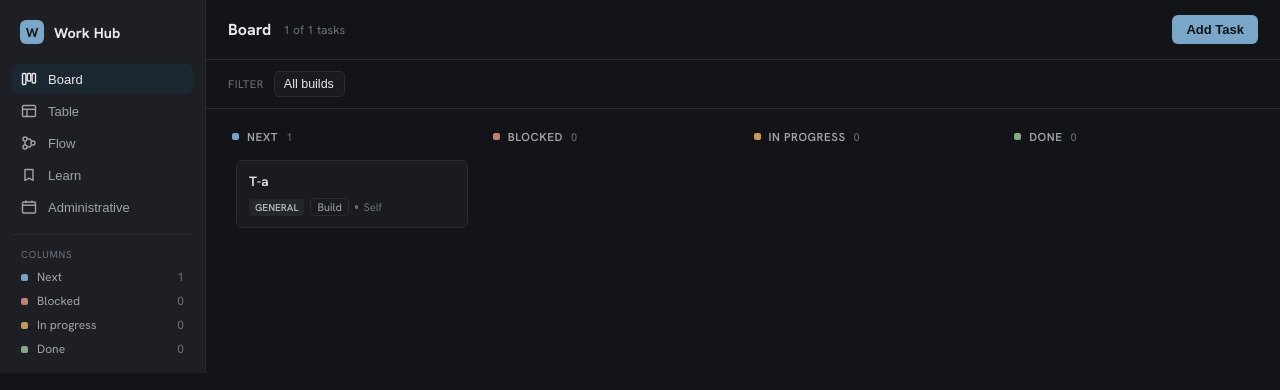
it: AppClient optimistic move › hides the board when a non-board view is selected
Check: the element with test id "dropzone-next" is shown, box left=236, top=160, right=468, bottom=228
Click the button "Table" at [102, 111], box left=12, top=96, right=193, bottom=126
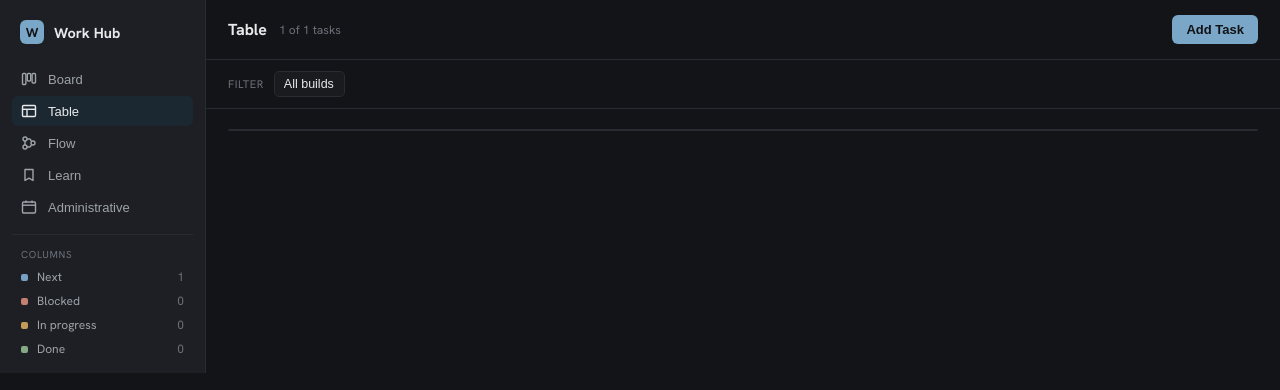
Check: the element with test id "dropzone-next" is gone
